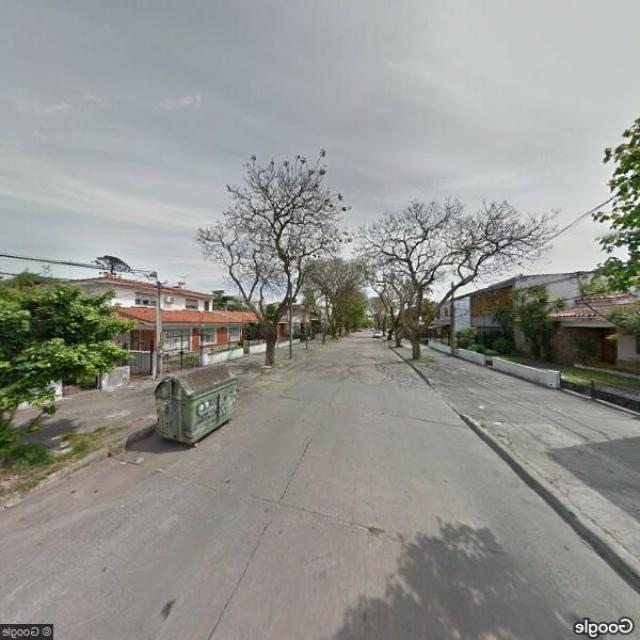garbage container: (144, 356, 243, 461)
